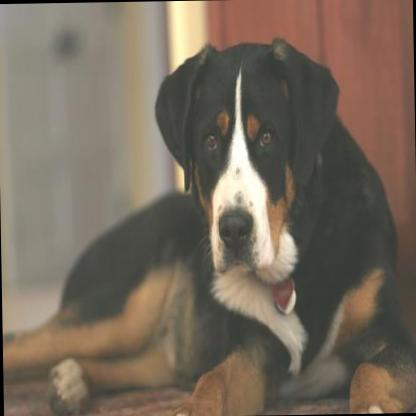Greater_Swiss_Mountain_dog: (0, 30, 416, 416)
